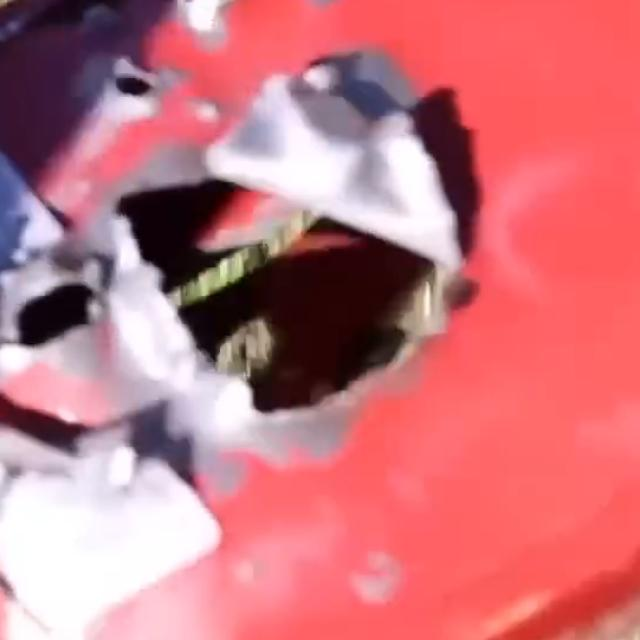bullets: (101, 122, 473, 443), (0, 258, 117, 364), (98, 52, 161, 120)
